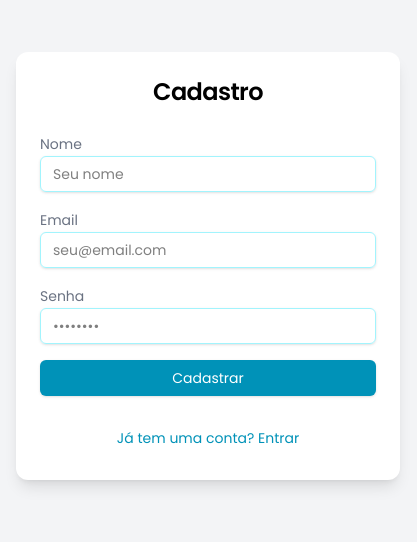
Test: RegisterPage › should validate the form - show errors when empty fields
This screenshot has width=417, height=542.
Click the button "Cadastrar": {"x": 208, "y": 378} [40, 360, 376, 396]
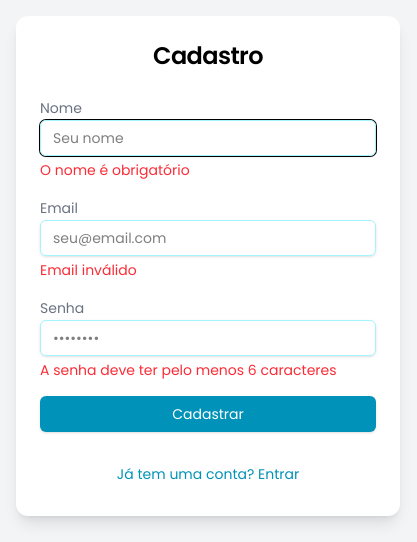
Check: the text "O nome é obrigatório" is shown, box [40, 160, 190, 180]
Check: the text "Email inválido" is shown, box [40, 260, 137, 280]
Check: the text "A senha deve ter pelo menos 6 caracteres" is shown, box [40, 360, 376, 380]
